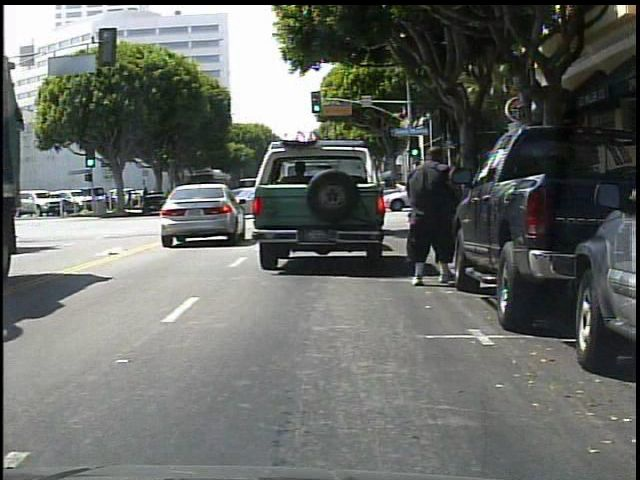person: (409, 142, 459, 290)
